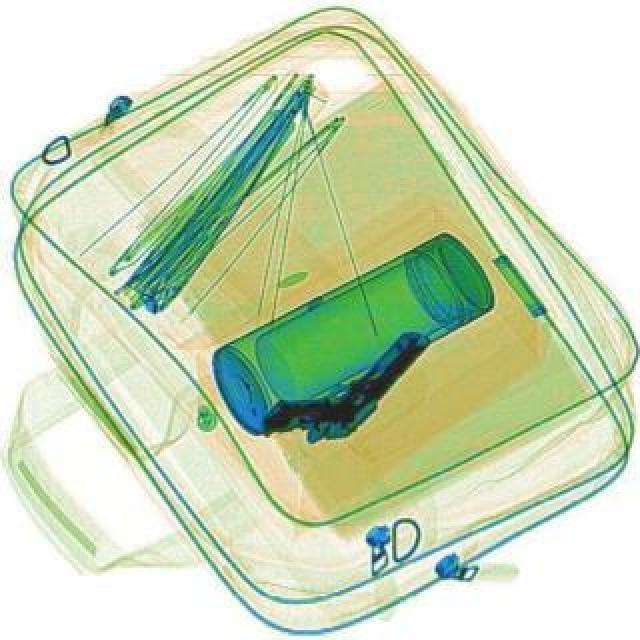gun: (248, 296, 430, 480)
